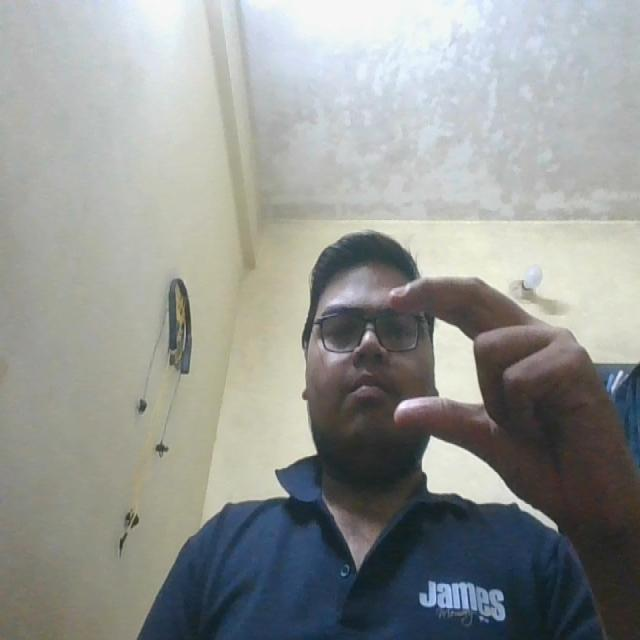No: (382, 263, 617, 523)
